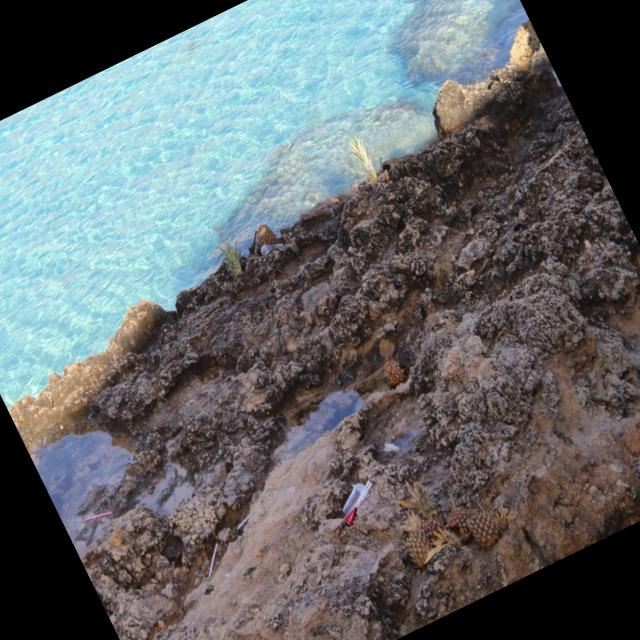Bottle: (342, 478, 372, 515), (261, 243, 283, 255)
Can: (343, 507, 357, 525)
Straw: (208, 541, 218, 576), (83, 510, 111, 522), (235, 513, 251, 531), (252, 230, 257, 254), (379, 156, 382, 174)
